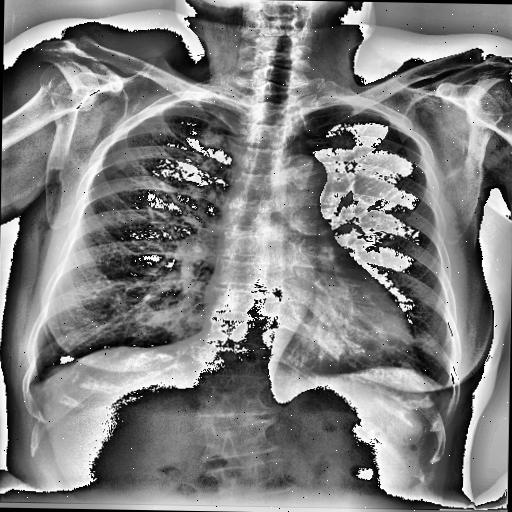0- Aortic enlargement: (268, 152, 328, 200), (268, 150, 328, 194)
10- Pleural effusion: (442, 367, 456, 403), (26, 379, 36, 394)
11- Pleural thickening: (442, 367, 456, 403), (26, 379, 36, 394)
3- Cardiomegaly: (194, 298, 412, 370)
8- Nodule-Mass: (420, 330, 438, 346), (115, 158, 127, 170), (114, 160, 126, 170)
9- Other lesion: (42, 348, 92, 380)
